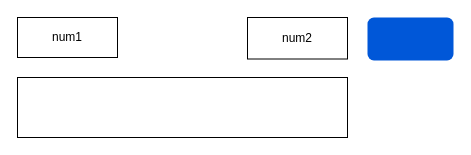
Some shapes in this 471 by 155 pixel diagram are drawn without their labels. Each missing label, with the box of its shape:
Primary: (367, 17, 453, 60)
result: (16, 76, 348, 138)
